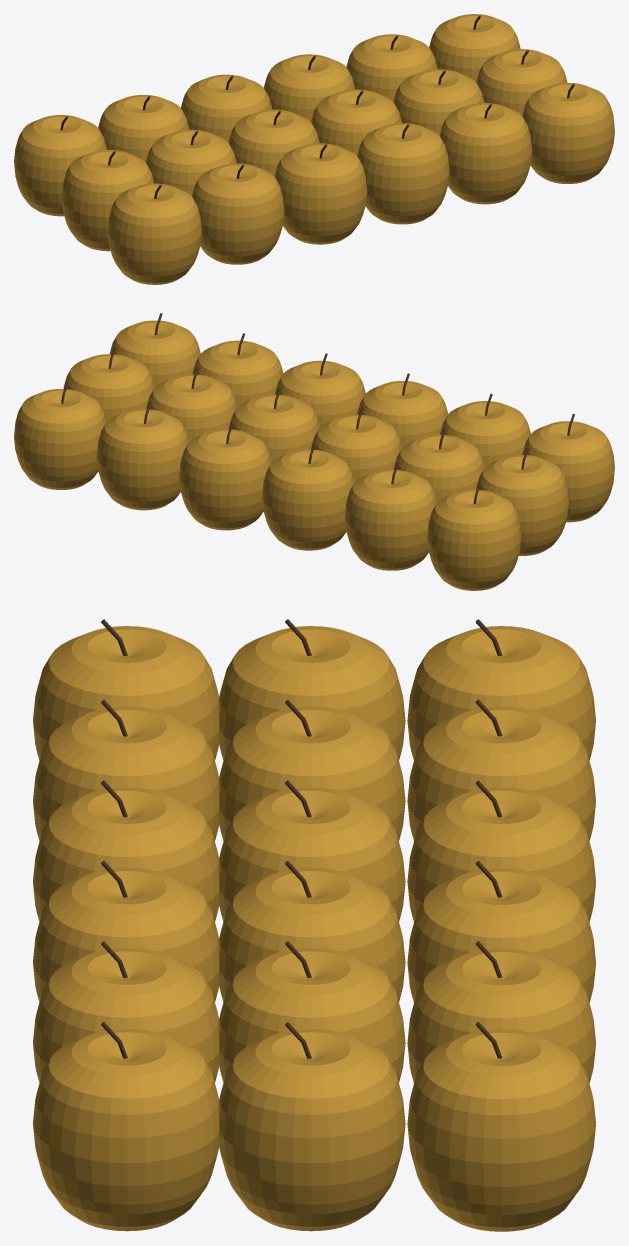
File: PommeJauneGroupe.fbx
3 renders of one model, top to bottom at view 1: azimuth 30°, elevation 25°; view 2: azimuth 150°, elevation 25°; view 3: azimuth 270°, elevation 25°, orthographic. The views are drawn at different scales.
Visible parts, largest first — view 1: jaune, jaune.002, jaune.003, jaune.001, jaune.004, jaune.005, jaune.012, jaune.011, jaune.015, jaune.014, jaune.017, jaune.016 (+6 smaller); view 2: jaune.012, jaune.017, jaune.014, jaune.015, jaune.016, jaune.013, jaune.011, jaune, jaune.008, jaune.009, jaune.006, jaune.007 (+6 smaller); view 3: jaune.015, jaune.003, jaune.008, jaune.014, jaune.013, jaune.016, jaune.001, jaune.004, jaune.010, jaune.017, jaune.007, jaune.012 (+6 smaller).
Boxes of the visible parts, <box> form: jaune: <box>107,183,201,284</box>; jaune.002: <box>274,143,367,244</box>; jaune.003: <box>522,83,614,183</box>; jaune.001: <box>192,163,284,264</box>; jaune.004: <box>439,103,531,204</box>; jaune.005: <box>357,123,449,224</box>; jaune.012: <box>14,115,106,216</box>; jaune.011: <box>61,150,154,251</box>; jaune.015: <box>429,14,520,81</box>; jaune.014: <box>181,74,272,142</box>; jaune.017: <box>263,54,355,121</box>; jaune.016: <box>346,34,437,101</box>; jaune.012: <box>427,489,521,590</box>; jaune.017: <box>179,429,271,530</box>; jaune.014: <box>262,449,354,550</box>; jaune.015: <box>14,389,106,489</box>; jaune.016: <box>96,409,189,510</box>; jaune.013: <box>344,469,437,570</box>; jaune.011: <box>476,455,568,555</box>; jaune: <box>522,421,614,522</box>; jaune.008: <box>63,354,154,421</box>; jaune.009: <box>311,414,402,482</box>; jaune.006: <box>228,394,319,461</box>; jaune.007: <box>146,374,237,441</box>; jaune.015: <box>407,1029,595,1231</box>; jaune.003: <box>33,1028,219,1231</box>; jaune.008: <box>219,1028,405,1231</box>; jaune.014: <box>407,787,595,921</box>; jaune.013: <box>407,706,595,841</box>; jaune.016: <box>407,948,595,1083</box>; jaune.001: <box>33,706,219,841</box>; jaune.004: <box>33,948,219,1082</box>; jaune.010: <box>219,706,405,841</box>; jaune.017: <box>407,868,595,1002</box>; jaune.007: <box>219,948,405,1082</box>; jaune.012: <box>407,626,595,760</box>.
Bounding box in the file's own units: 480 × 88.17 × 236.
